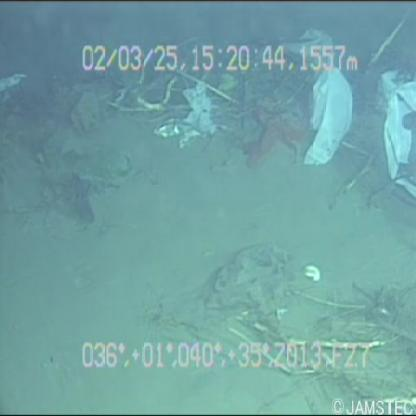Rác: (273, 25, 354, 184), (149, 71, 228, 154), (376, 63, 416, 200)
